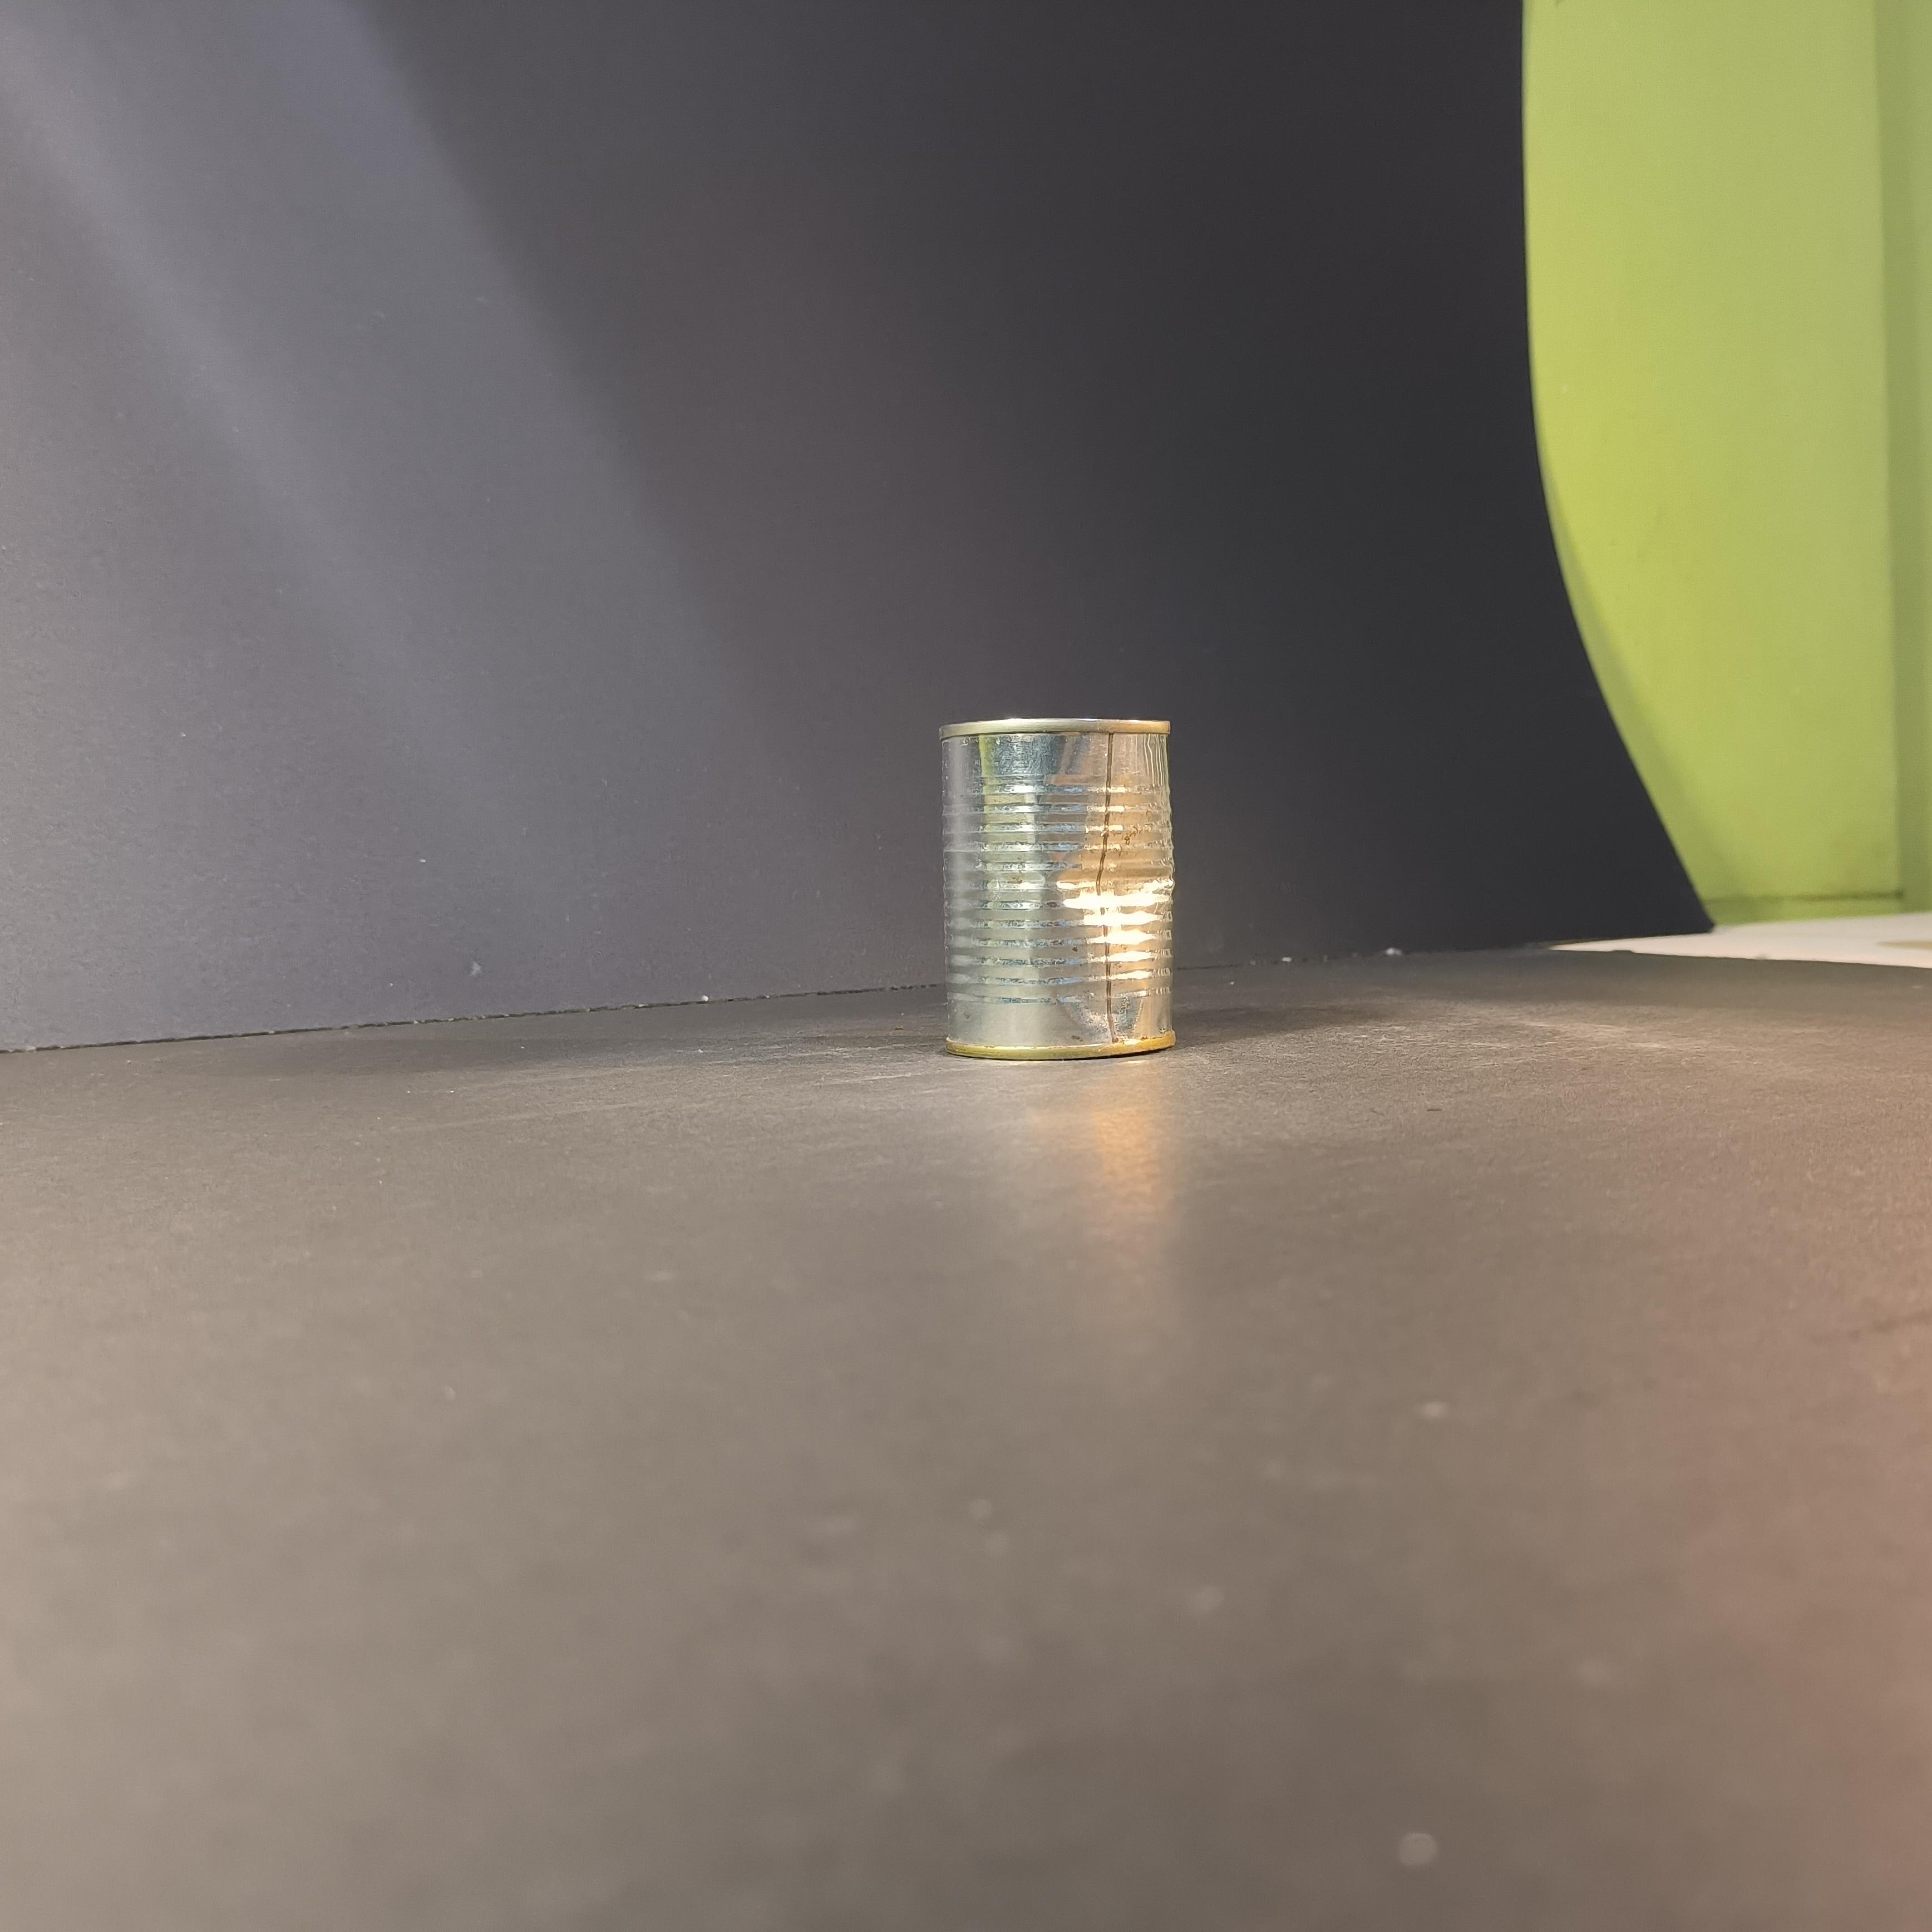Dented: (927, 694, 1180, 1069)
